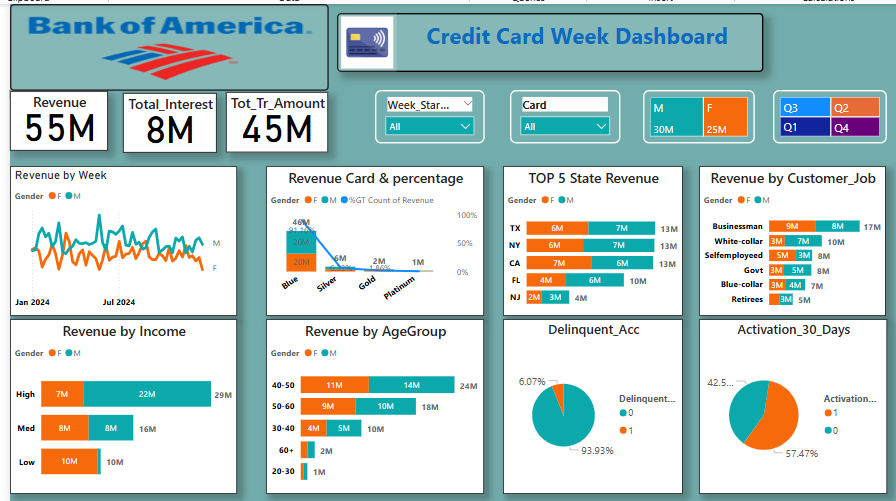

Layout of this report page (visuals, bound fields, positions):
{"tool":"powerbi","page":{"name":"DASHBOARD","canvas":[1280,720],"ordinal":0},"visuals":[{"type":"card","title":"Revenue","fields":{"Values":["Sum(CARD.Revenue)"]},"box":[0,125.3,141.1,86.4],"z":0},{"type":"card","title":"Total_Interest","fields":{"Values":["Sum(CARD.Interest_Earned)"]},"box":[162.4,127.8,135.4,85.7],"z":1000},{"type":"card","title":"Tot_Tr_Amount","fields":{"Values":["Sum(CARD.Total_Trans_Amt)"]},"box":[311.4,126.3,147.4,87.2],"z":2000},{"type":"slicer","fields":{"Values":["CARD.Week_Start_Date"]},"box":[524.9,123.3,157.9,76.7],"z":3000},{"type":"slicer","fields":{"Values":["CARD.Card_Category"]},"box":[720.5,123.3,159.4,76.7],"z":4000},{"type":"treemap","fields":{"Group":["CARD.Qtr"],"Values":["Sum(CARD.Revenue)"]},"box":[1098,123.3,163.9,76.7],"z":5000},{"type":"lineChart","title":"Revenue by  Week","fields":{"Category":["CARD.Week_Start_Date.Variation.Date Hierarchy.Year","CARD.Week_Start_Date.Variation.Date Hierarchy.Month","CARD.Week_Start_Date.Variation.Date Hierarchy.Day"],"Y":["Sum(CARD.Revenue)"],"Series":["customer.Gender"]},"box":[0,233.3,326.9,216],"z":6000},{"type":"lineStackedColumnComboChart","title":" Revenue Card & percentage","fields":{"Category":["CARD.Card_Category"],"Series":["customer.Gender"],"Y":["Sum(CARD.Revenue)1"],"Y2":["CountNonNull(CARD.Revenue)"]},"box":[368.6,233.3,313.9,216],"z":7000},{"type":"barChart","title":" Revenue by Customer_Job","fields":{"Series":["customer.Gender"],"Category":["customer.Customer_Job"],"Y":["Sum(CARD.Revenue)"]},"box":[992.2,233.3,269.3,216],"z":8000},{"type":"barChart","title":"Revenue by Income","fields":{"Y":["Sum(CARD.Revenue)"],"Series":["customer.Gender"],"Category":["customer.IncomeGroup"]},"box":[0,453.6,326.9,252],"z":9000},{"type":"barChart","title":" TOP 5  State Revenue","fields":{"Category":["customer.state_cd"],"Y":["Sum(CARD.Revenue)"],"Series":["customer.Gender"]},"box":[709.9,233.3,259.2,216],"z":10000},{"type":"barChart","title":"Revenue by AgeGroup","fields":{"Category":["customer.AgeGroup"],"Y":["Sum(CARD.Revenue)"],"Series":["customer.Gender"]},"box":[368.6,453.6,313.9,252],"z":11000},{"type":"image","box":[0,0,458.9,125.3],"z":12000},{"type":"textbox","box":[470.9,13.6,614.3,84.5],"z":13000},{"type":"image","box":[470.9,13.6,86,84.5],"z":14000},{"type":"pieChart","title":" Delinquent_Acc","fields":{"Category":["CARD.Delinquent_Acc"],"Y":["Sum(CARD.Delinquent_Acc)"]},"box":[709.9,453.6,259.2,252],"z":15000},{"type":"pieChart","title":"Activation_30_Days ","fields":{"Category":["CARD.Activation_30_Days"],"Y":["Divide(CountNonNull(CARD.Activation_30_Days), ScopedEval(CountNonNull(CARD.Activation_30_Days), []))"]},"box":[992.2,453.6,270.7,252],"z":16000},{"type":"treemap","fields":{"Values":["Sum(CARD.Revenue)"],"Group":["customer.Gender"]},"box":[911.5,123.3,160.9,76.7],"z":17000}]}

Visuals, with their boxes in screenshot pixels (x1, y1, x2, y2), scaled from the page's 1280x720 canvas onto the 896x501 screenshot:
"Revenue" card: (0, 87, 99, 147)
"Total_Interest" card: (114, 89, 208, 149)
"Tot_Tr_Amount" card: (218, 88, 321, 149)
slicer - CARD.Week_Start_Date: (367, 86, 478, 139)
slicer - CARD.Card_Category: (504, 86, 616, 139)
treemap - CARD.Qtr x Sum(CARD.Revenue): (769, 86, 883, 139)
"Revenue by  Week" lineChart: (0, 162, 229, 313)
" Revenue Card & percentage" lineStackedColumnComboChart: (258, 162, 478, 313)
" Revenue by Customer_Job" barChart: (695, 162, 883, 313)
"Revenue by Income" barChart: (0, 316, 229, 491)
" TOP 5  State Revenue" barChart: (497, 162, 678, 313)
"Revenue by AgeGroup" barChart: (258, 316, 478, 491)
image: (0, 0, 321, 87)
textbox: (330, 9, 760, 68)
image: (330, 9, 390, 68)
" Delinquent_Acc" pieChart: (497, 316, 678, 491)
"Activation_30_Days " pieChart: (695, 316, 884, 491)
treemap - Sum(CARD.Revenue) x customer.Gender: (638, 86, 751, 139)
